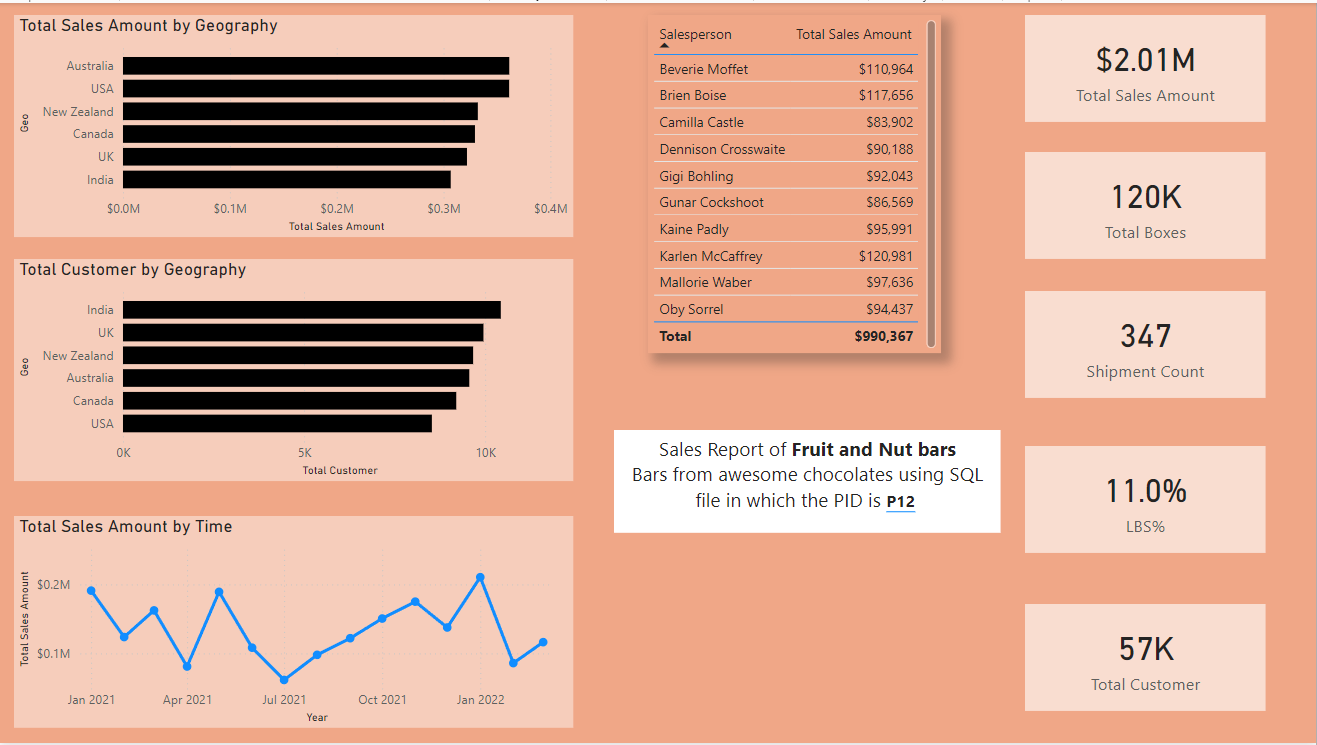

Layout of this report page (visuals, bound fields, positions):
{"tool":"powerbi","page":{"name":"Page 1","canvas":[1280,720],"ordinal":0},"visuals":[{"type":"card","fields":{"Values":["sales.Total Sales"]},"box":[997,11.7,234.4,104.1],"z":0},{"type":"card","fields":{"Values":["sales.Total Boxes"]},"box":[997,144.9,234.4,104.1],"z":1000},{"type":"card","fields":{"Values":["sales.Shipment Count"]},"box":[997,280.1,234.4,104.1],"z":2000},{"type":"card","fields":{"Values":["sales.LBS%"]},"box":[997,430.9,234.4,104.1],"z":3000},{"type":"barChart","title":"Total Sales Amount by Geography","fields":{"Category":["geo.Geo"],"Y":["sales.Total Sales"]},"box":[13.6,11.7,543.7,215.9],"z":4000},{"type":"card","fields":{"Values":["sales.Total Customer"]},"box":[997,584.6,234.4,104.1],"z":5000},{"type":"barChart","title":"Total Customer by Geography","fields":{"Category":["geo.Geo"],"Y":["sales.Total Customer"]},"box":[13.6,249,543.7,215.9],"z":6000},{"type":"lineChart","title":"Total Sales Amount by Time","fields":{"Y":["sales.Total Sales Amount"],"Category":["sales.SaleDate.Variation.Date Hierarchy.Year","sales.SaleDate.Variation.Date Hierarchy.Month"]},"box":[13.6,499,543.7,206.2],"z":7000},{"type":"tableEx","fields":{"Values":["people.Salesperson","sales.Total Sales Amount"]},"box":[630.3,11.7,285,328.8],"z":8000},{"type":"textbox","box":[597.2,415.3,376.4,100.2],"z":9000}]}

Visuals, with their boxes in screenshot pixels (x1, y1, x2, y2), scaled from the page's 1280x720 canvas onto the 1317x745 screenshot:
card - sales.Total Sales: region(1026, 12, 1267, 120)
card - sales.Total Boxes: region(1026, 150, 1267, 258)
card - sales.Shipment Count: region(1026, 290, 1267, 398)
card - sales.LBS%: region(1026, 446, 1267, 554)
"Total Sales Amount by Geography" barChart: region(14, 12, 573, 236)
card - sales.Total Customer: region(1026, 605, 1267, 713)
"Total Customer by Geography" barChart: region(14, 258, 573, 481)
"Total Sales Amount by Time" lineChart: region(14, 516, 573, 730)
tableEx - people.Salesperson x sales.Total Sales Amount: region(649, 12, 942, 352)
textbox: region(614, 430, 1002, 533)
